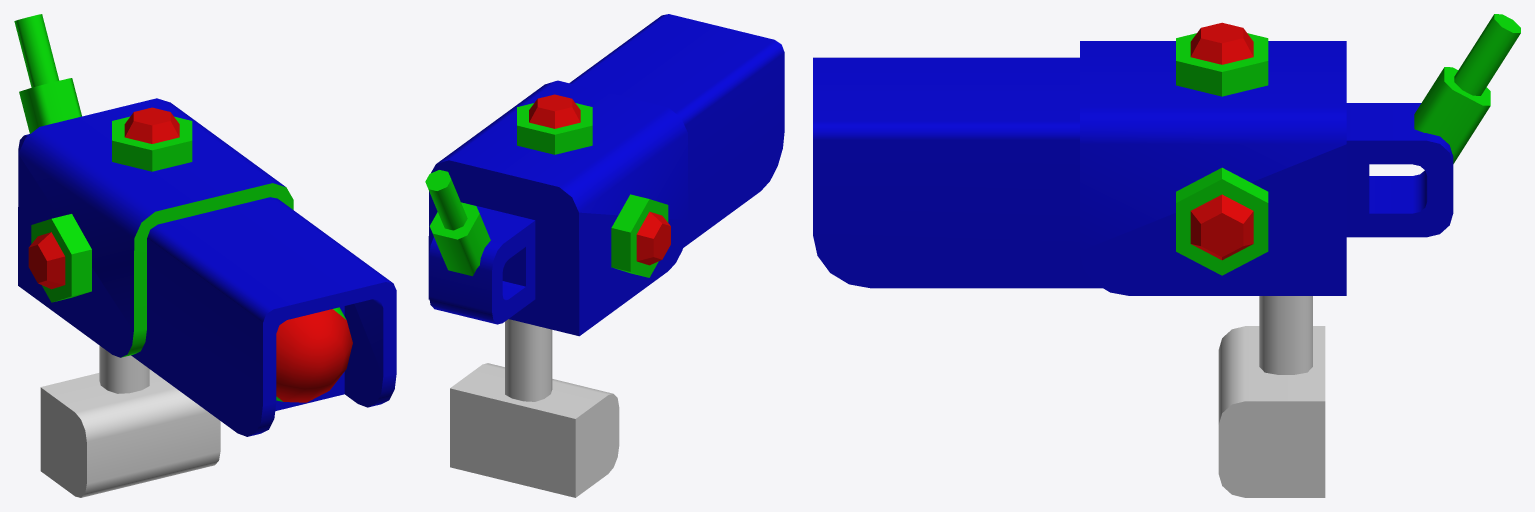
Rendered from SM_AI_Camera.fbx.
3 views of the same model, side by side, from view 1: azimuth 30°, elevation 25°; view 2: azimuth 150°, elevation 25°; view 3: azimuth 270°, elevation 25° (orthographic). The views are drawn at different scales.
Visible parts, largest first — view 1: Cam_Body, Cam_Base, Cam_Stand; view 2: Cam_Body, Cam_Base, Cam_Stand; view 3: Cam_Body, Cam_Base, Cam_Stand.
Part boxes in pixels (x1,y1,x2,y2): Cam_Body: (14,14,396,436); Cam_Base: (40,369,220,497); Cam_Stand: (99,345,149,393); Cam_Body: (425,14,784,336); Cam_Base: (450,363,619,497); Cam_Stand: (505,319,552,401); Cam_Body: (813,14,1520,295); Cam_Base: (1218,326,1325,497); Cam_Stand: (1259,296,1312,374).
Bounding box in the file's own units: 85.48 × 138 × 199.
